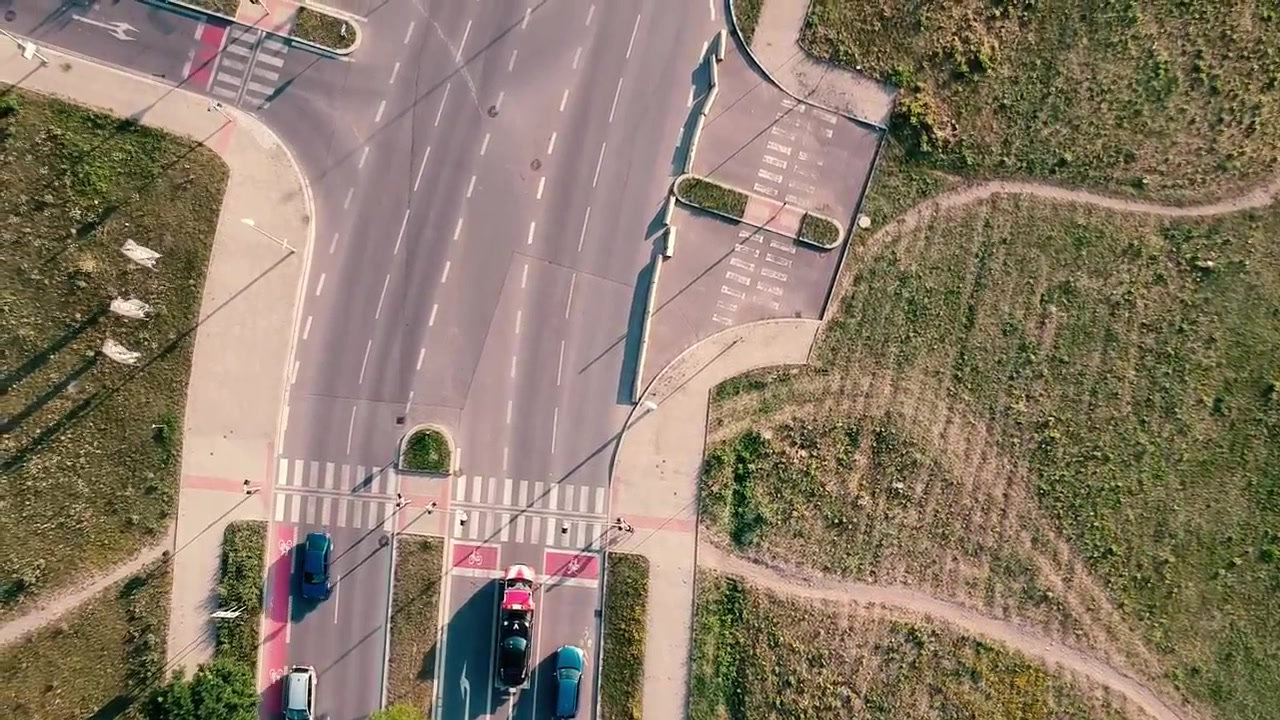car: (494, 559, 537, 695), (296, 528, 333, 604), (551, 645, 585, 720), (280, 662, 319, 720)
